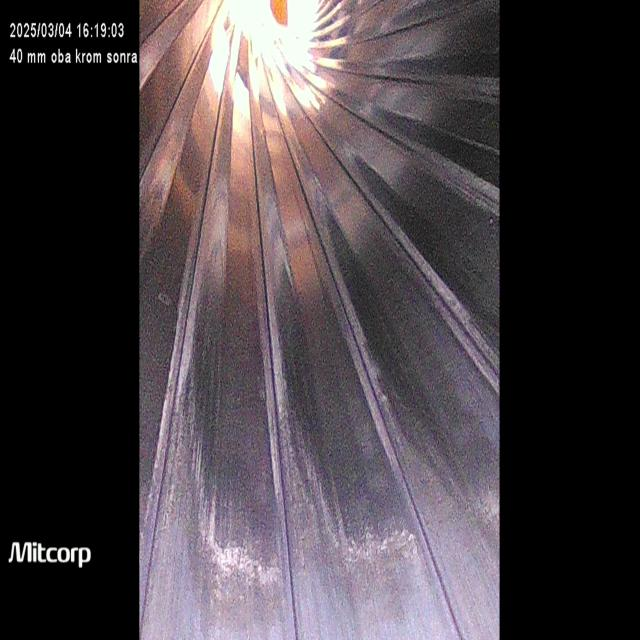hata_8.1: (361, 85, 503, 231), (284, 200, 377, 350)
